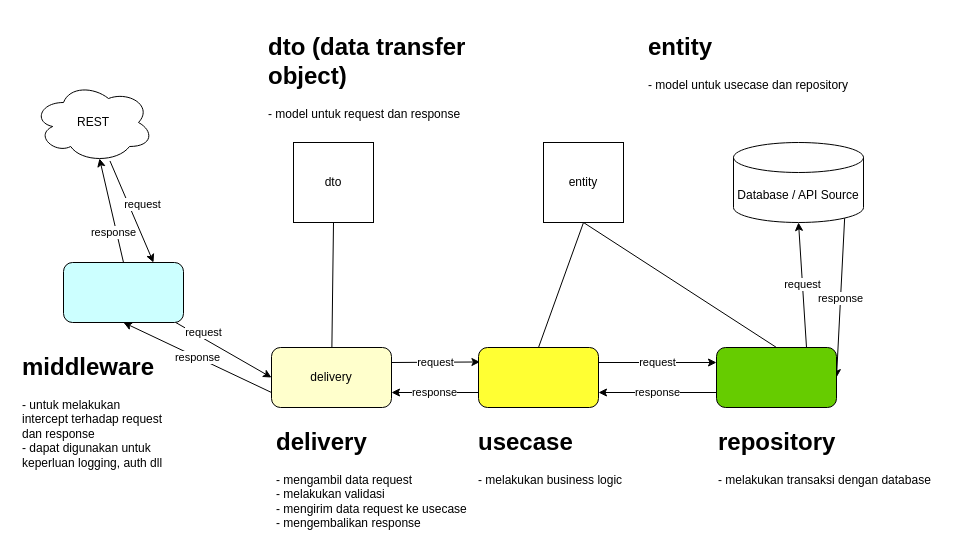
Image size: 970x559. Some labels were removed from this diagram. Each missing label, with the centre of its shape:
"middleware" belongs at pixel 123 292.
"repository" belongs at pixel 776 377.
"usecase" belongs at pixel 538 377.
